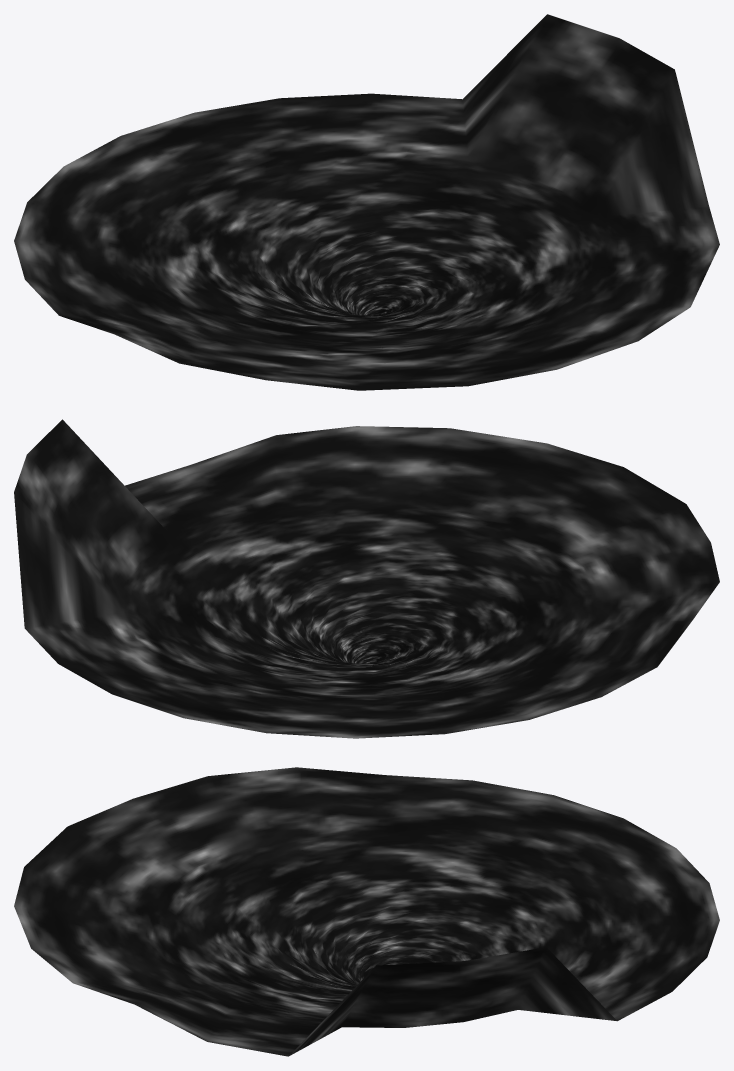
Rendered from SkyVoterx.FBX.
The picture shows the model from 3 angles, top to bottom: view 1: azimuth 30°, elevation 25°; view 2: azimuth 150°, elevation 25°; view 3: azimuth 270°, elevation 25°; orthographic projection. The views are drawn at different scales.
Visible parts, largest first — view 1: SkyLayer; view 2: SkyLayer; view 3: SkyLayer.
Part boxes in pixels (<box>): SkyLayer: <box>14,14,719,390</box>; SkyLayer: <box>14,419,719,738</box>; SkyLayer: <box>14,767,719,1056</box>.
Size of the model in its own units: 2715 by 778 by 2823.
Materials: 1 (1 with a texture image).
